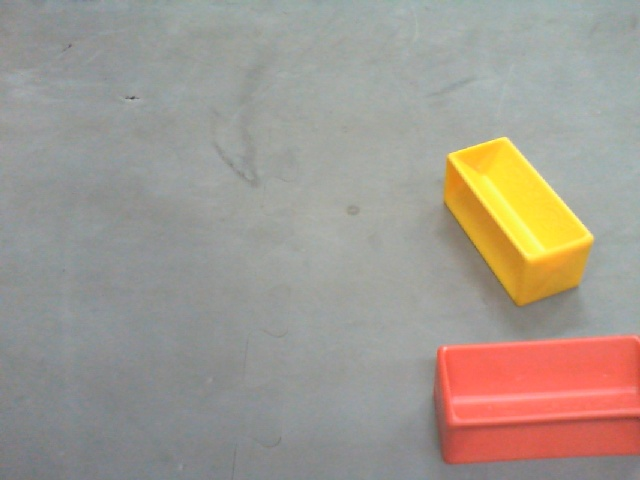RedSample: (432, 333, 640, 465)
YellowSample: (441, 126, 592, 308)
